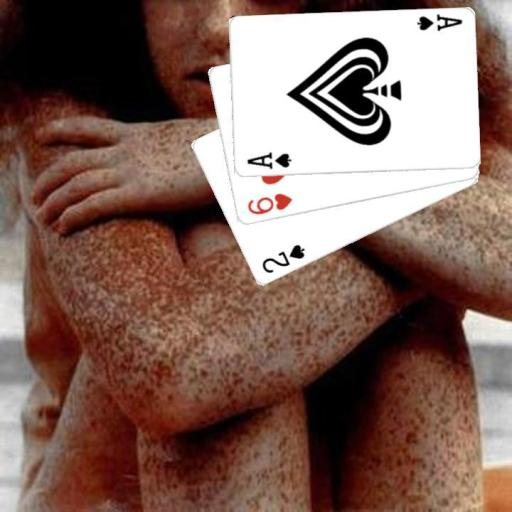2S: (258, 241, 306, 275)
6H: (244, 190, 294, 217)
AS: (413, 11, 464, 33), (243, 150, 292, 172)
